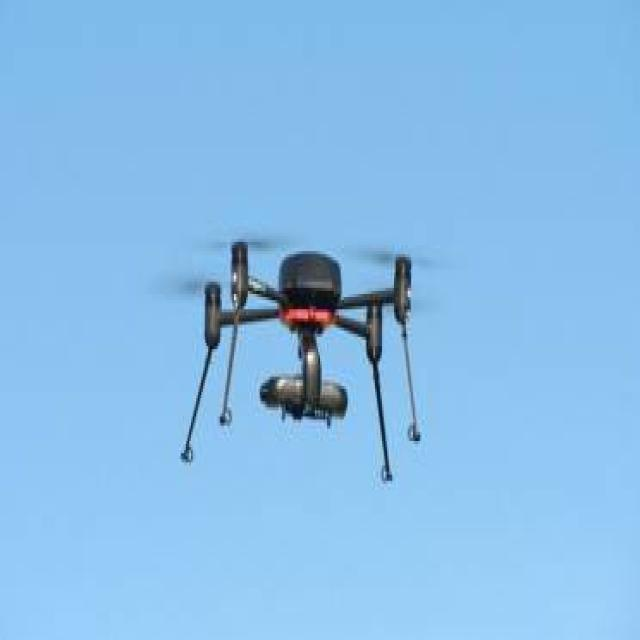drone: (162, 212, 477, 398)
